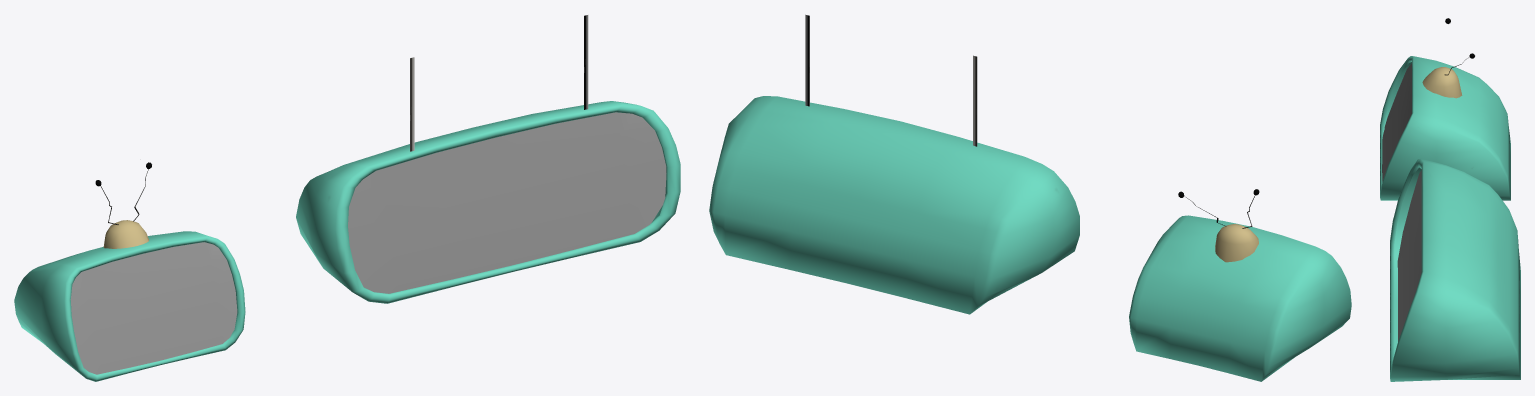
The model's file is tvs_islamecanica_v1.FBX.
3 views of the same model, side by side, from view 1: azimuth 30°, elevation 25°; view 2: azimuth 150°, elevation 25°; view 3: azimuth 270°, elevation 25° (orthographic). The views are drawn at different scales.
Parts seen in each view (by area): view 1: Plane007, Plane003, Plane011, Sphere001, Object003; view 2: Plane011, Sphere001, Object003; view 3: Plane011, Sphere001, Plane007, Plane003.
Part boxes in pixels (x1,y1,x2,y2): Plane007: [348, 112, 666, 293]; Plane003: [70, 242, 237, 374]; Plane011: [296, 101, 680, 303]; Sphere001: [14, 162, 245, 381]; Object003: [410, 15, 588, 151]; Plane011: [709, 96, 1079, 314]; Sphere001: [1129, 189, 1351, 381]; Object003: [805, 14, 977, 146]; Plane011: [1390, 158, 1520, 381]; Sphere001: [1380, 18, 1510, 200]; Plane007: [1397, 170, 1421, 341]; Plane003: [1382, 63, 1411, 181].
Size of the model in its own units: 72.78 by 24.76 by 16.32.
Materials: 2 (1 with a texture image).
